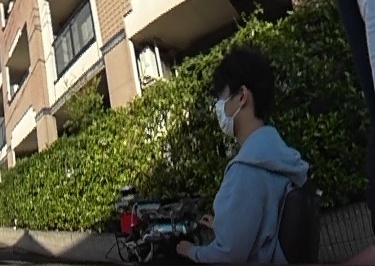person: (167, 38, 306, 266)
